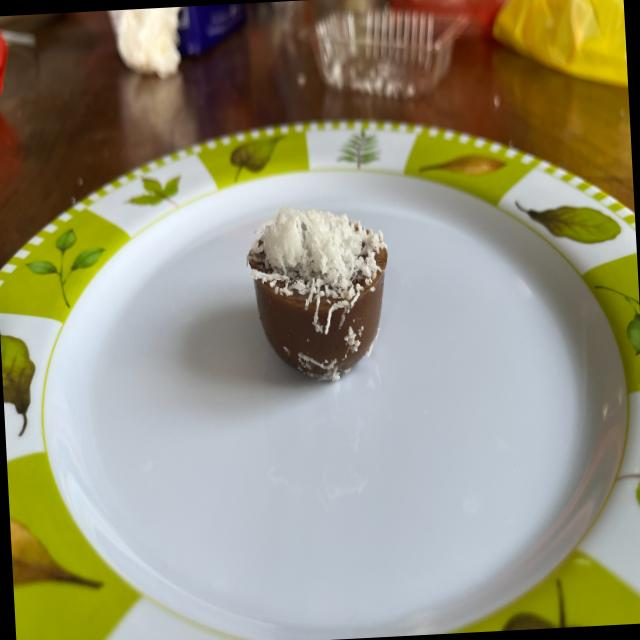Kuih lompang: (247, 206, 387, 380)
